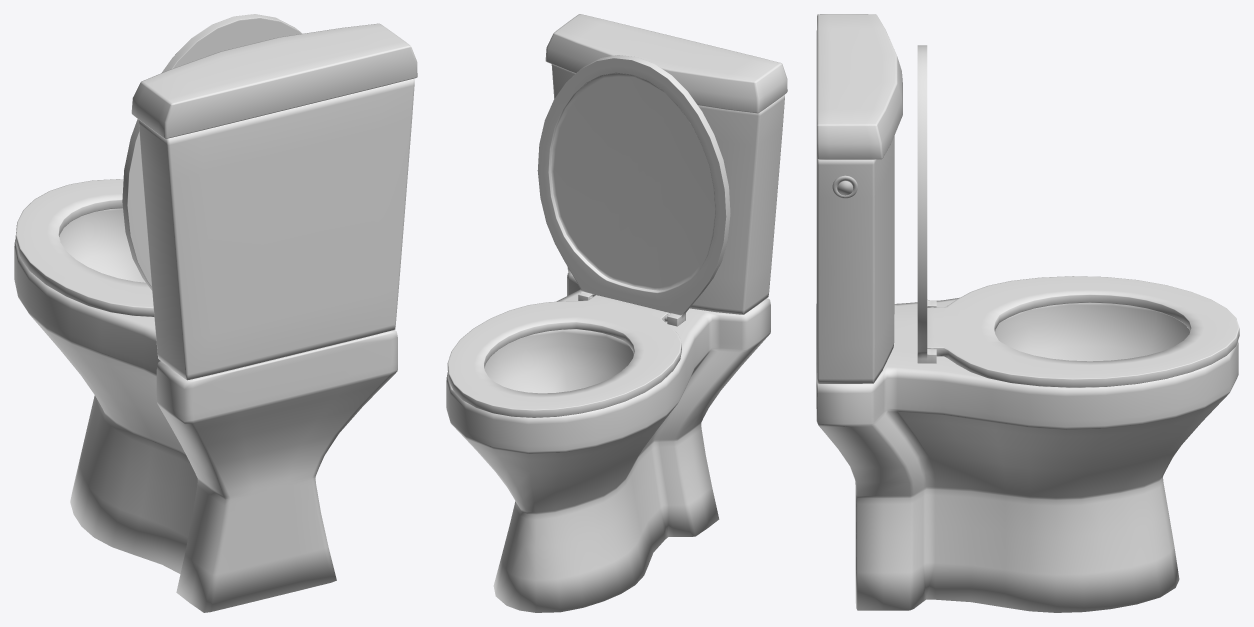
Rendered from Toilet01.fbx.
The picture shows the model from 3 angles, left to right: view 1: azimuth 30°, elevation 25°; view 2: azimuth 150°, elevation 25°; view 3: azimuth 270°, elevation 25°; orthographic projection. The views are drawn at different scales.
Visible parts, largest first — view 1: Toilet01, ToiletSeat01, ToiletCover01; view 2: Toilet01, ToiletCover01, ToiletSeat01; view 3: Toilet01, ToiletSeat01, ToiletCover01.
Part boxes in pixels (<box>): Toilet01: <box>14,23,417,612</box>; ToiletSeat01: <box>15,179,154,316</box>; ToiletCover01: <box>122,14,302,290</box>; Toilet01: <box>446,14,787,612</box>; ToiletCover01: <box>537,55,730,326</box>; ToiletSeat01: <box>447,295,681,417</box>; Toilet01: <box>816,14,1238,612</box>; ToiletSeat01: <box>927,276,1239,387</box>; ToiletCover01: <box>917,45,936,363</box>.
Size of the model in its own units: 38.98 by 81.36 by 59.34.
